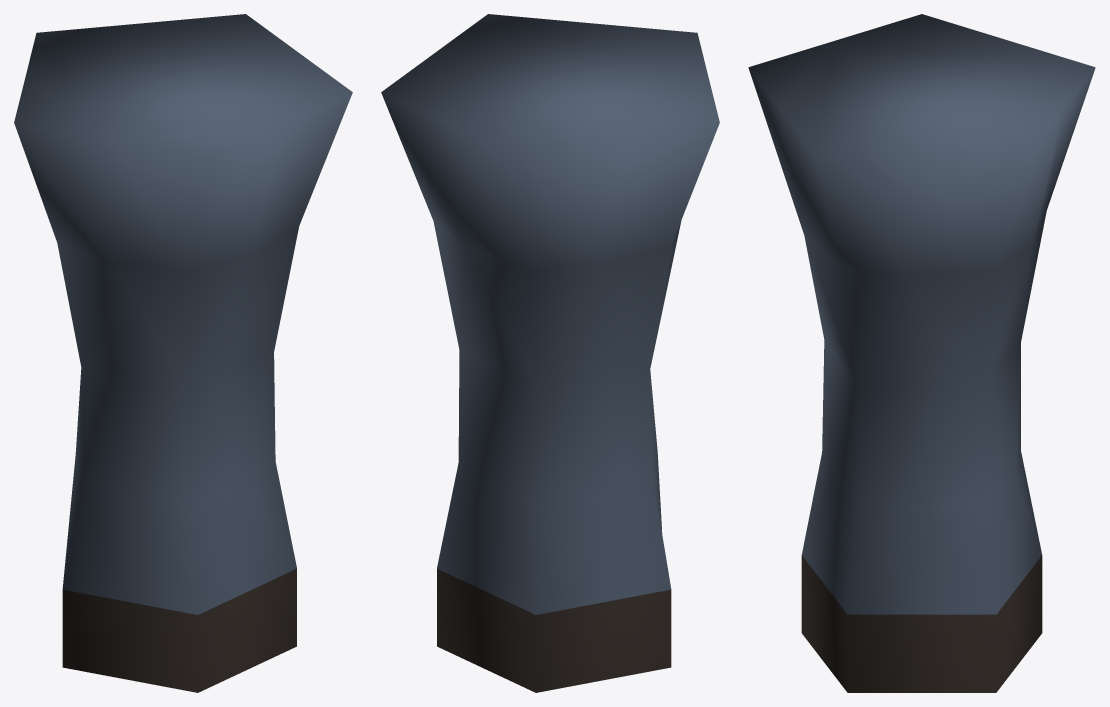
The model's file is animal_muffalo_leg.obj.
3 renders of one model, left to right at view 1: azimuth 30°, elevation 25°; view 2: azimuth 150°, elevation 25°; view 3: azimuth 270°, elevation 25°, orthographic.
Parts seen in each view (by area): view 1: animal_muffalo_leg; view 2: animal_muffalo_leg; view 3: animal_muffalo_leg.
Part boxes in pixels (box(x1,y1,x2,y2)): animal_muffalo_leg: box(14, 14, 352, 692); animal_muffalo_leg: box(381, 14, 719, 692); animal_muffalo_leg: box(748, 14, 1095, 692).
Bounding box in the file's own units: 0.254 × 0.4735 × 0.267.
